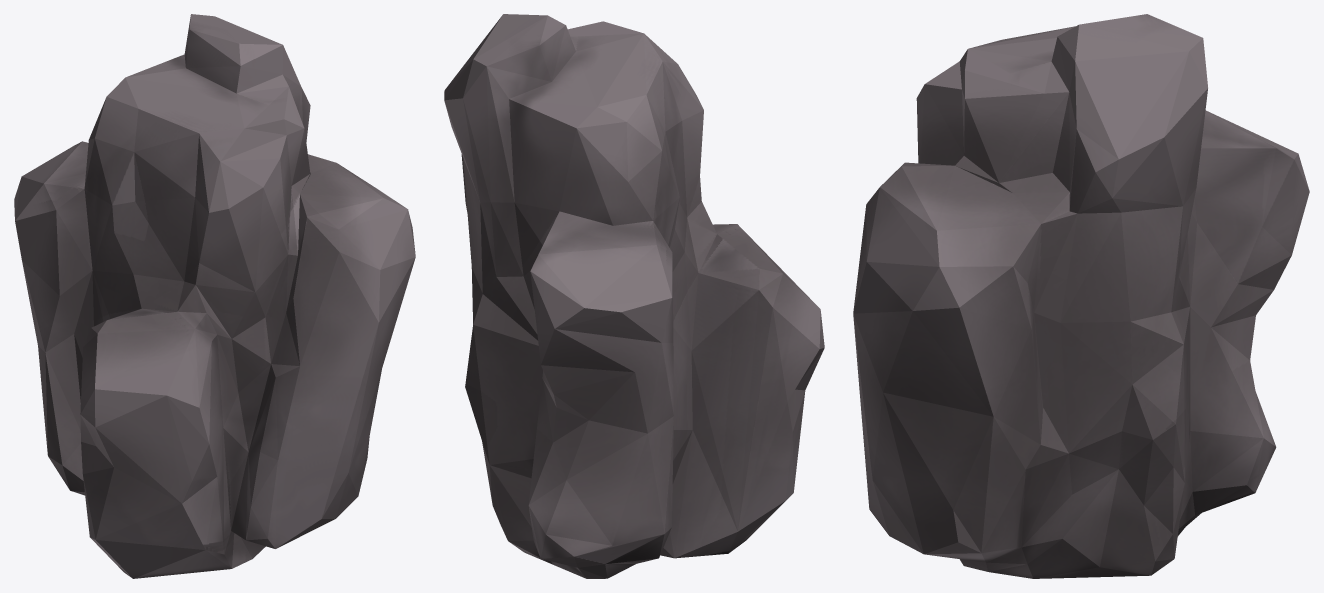
Rendered from rock.fbx.
3 views of the same model, side by side, from view 1: azimuth 30°, elevation 25°; view 2: azimuth 150°, elevation 25°; view 3: azimuth 270°, elevation 25° (orthographic). The views are drawn at different scales.
Parts seen in each view (by area): view 1: rock; view 2: rock; view 3: rock.
Boxes of the visible parts, x1,y1,x2,y2 form: rock: (14, 14, 415, 578); rock: (444, 14, 824, 578); rock: (853, 14, 1309, 578).
Size of the model in its own units: 402 by 560 by 408.
